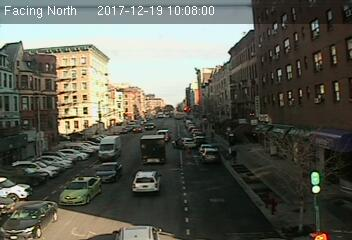car: (1, 198, 60, 239), (58, 175, 102, 204), (131, 170, 161, 193), (96, 163, 122, 183), (171, 135, 194, 150), (202, 147, 219, 162)
truck: (98, 135, 122, 162)
ups: (139, 134, 168, 165)
